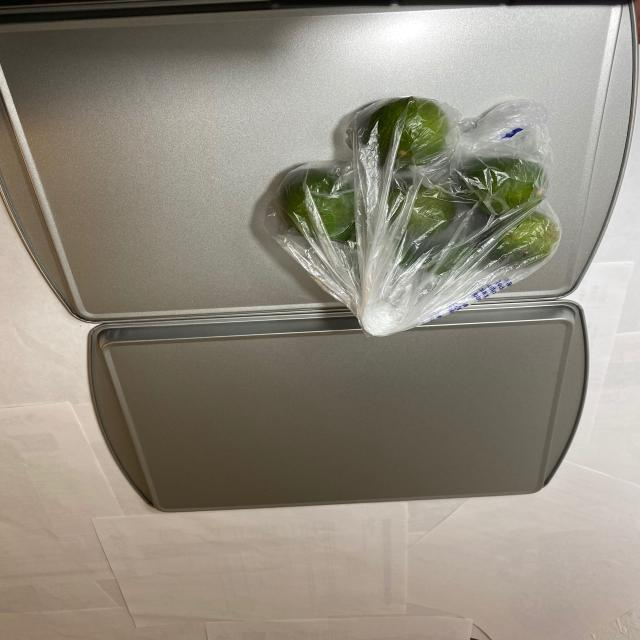lemon: (275, 101, 561, 302)
